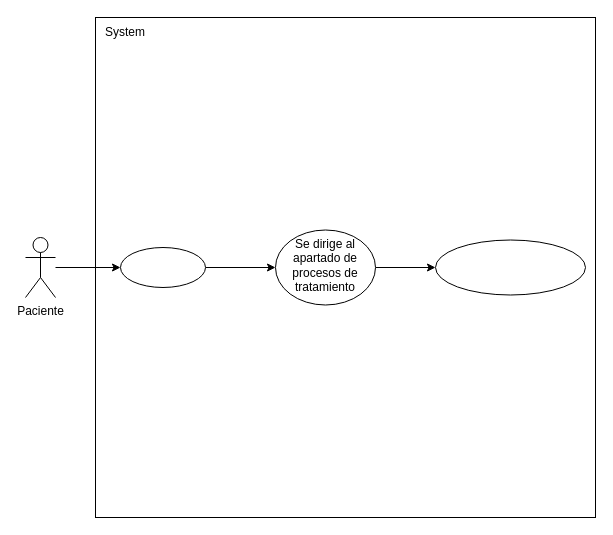
The diagram is 613 pixels wide and 535 high, and some of its shapes have lost their labels. The shapes that lost their labels are listed below. From the top down, each one's centre as x and y in pixels, then its label:
At [163,267]: "Ingresa a la pagina".
At [510,267]: "Se le informa de los procesos a seguir antes del tratamiento".
